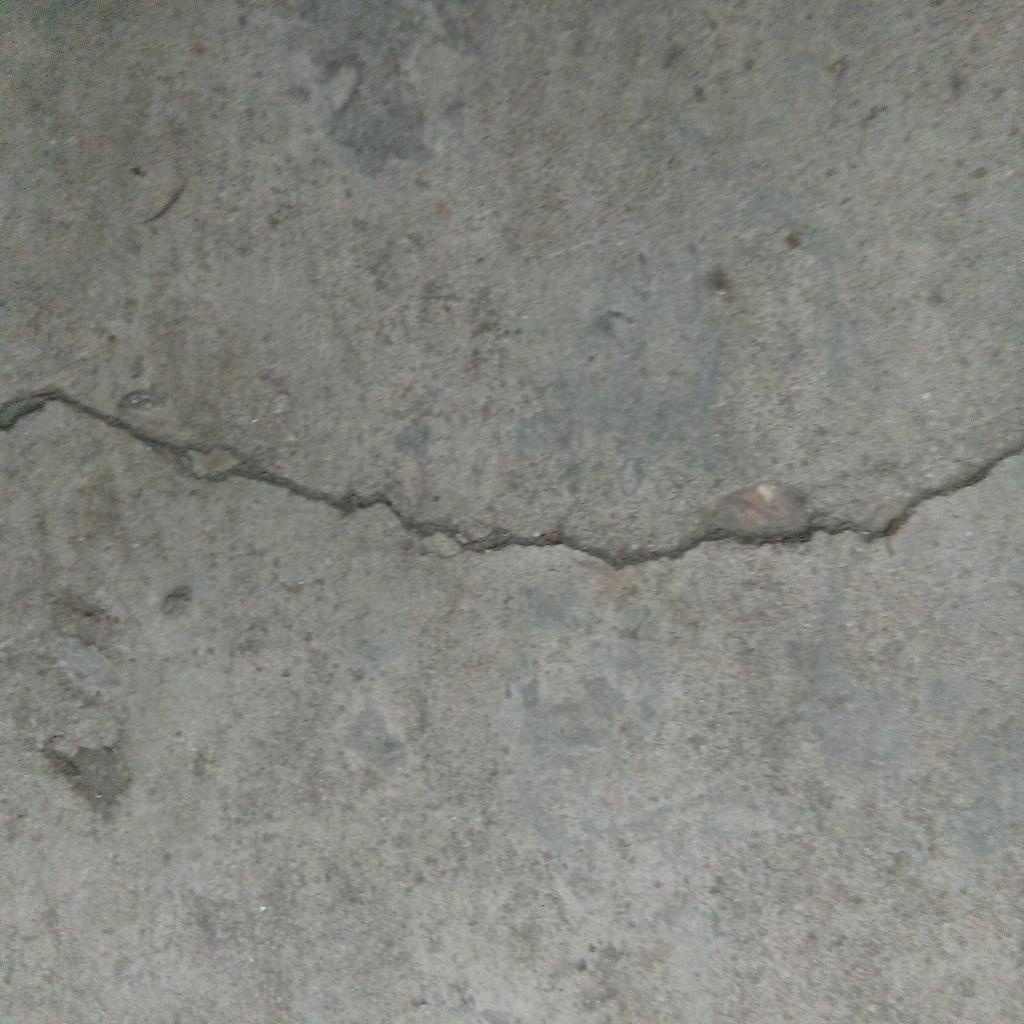Crack: (1, 388, 1024, 573)
